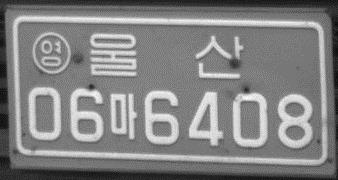0: (230, 90, 269, 148), (27, 85, 63, 143)
4: (185, 89, 225, 147)
6: (142, 88, 181, 146), (69, 85, 104, 143)
8: (275, 92, 314, 151)
마: (106, 90, 138, 143)
영: (31, 31, 72, 77)
울산_D: (86, 30, 244, 80)
